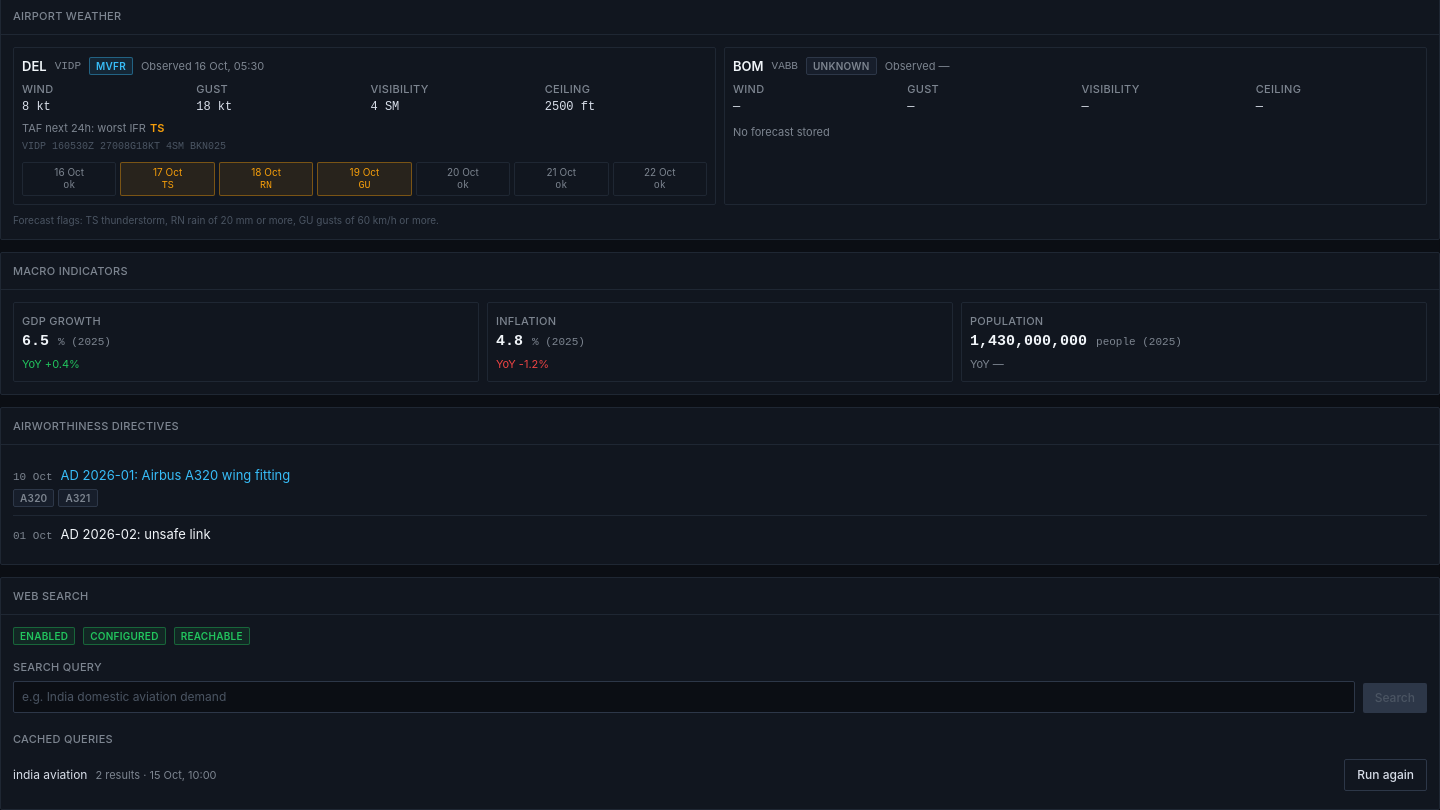
Test: DataPage › runs a search and lists the results, rendering unsafe links as plain text
(page scrolled)
Expected: the button "Search" is disabled, [1363,683,1427,713]
Type "  india aviation  " into the field labelled "Search query" at (684, 697), box [13,681,1355,713]
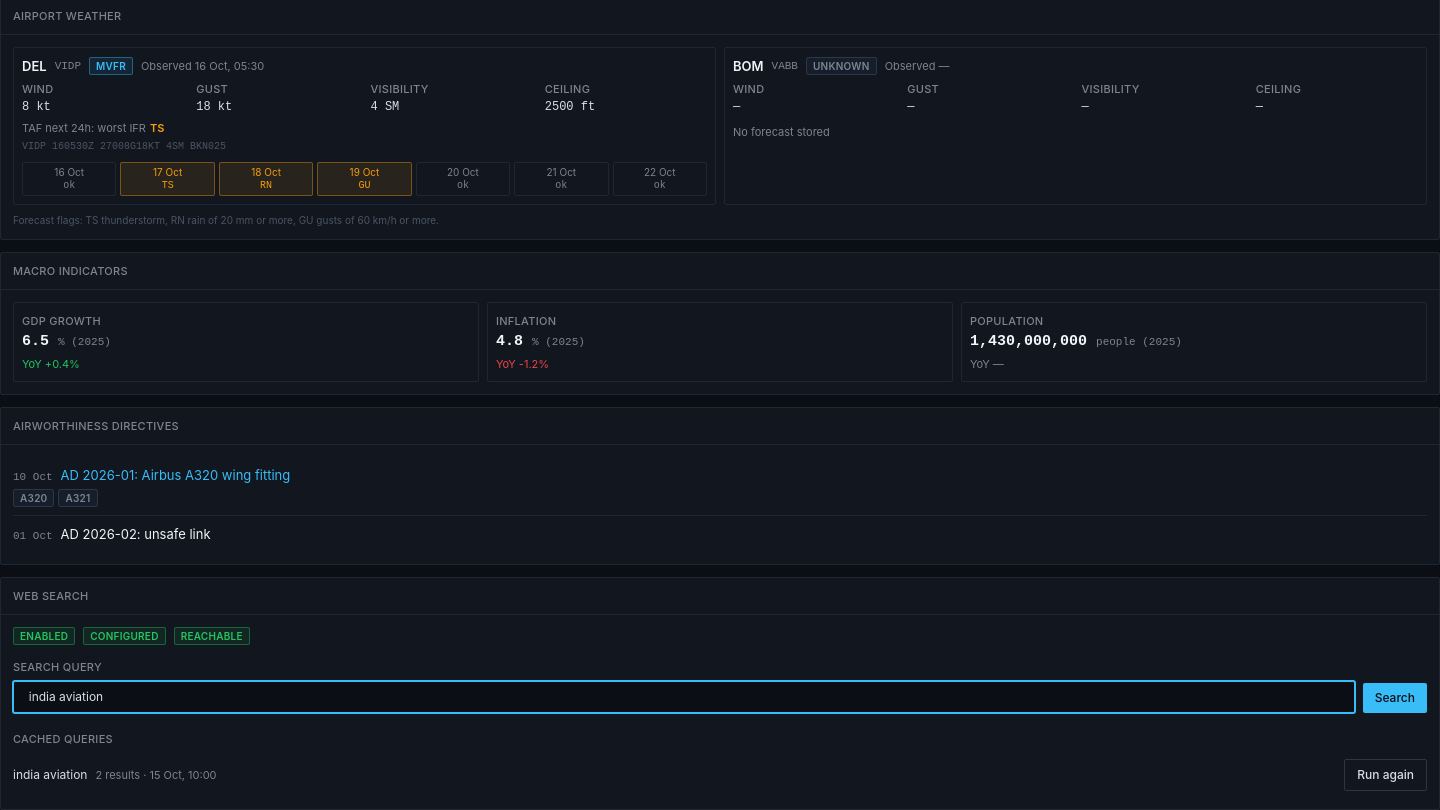
Click the button "Search" at (1395, 698), box [1363,683,1427,713]
(page scrolled)
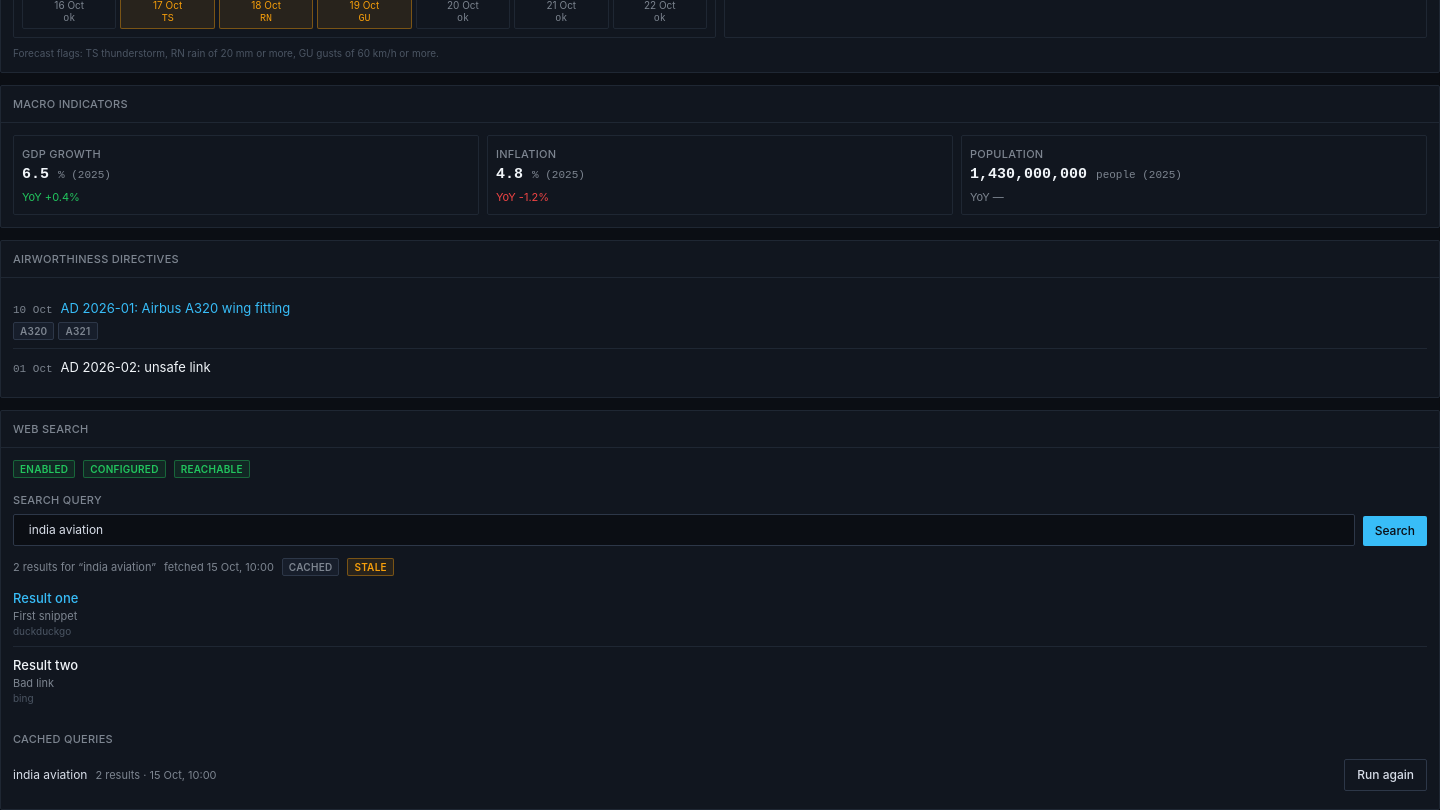
Result: the text "Result two" is shown at [13,657,78,673]
Result: the element with test id "web-search-results" shows "cached" at [289,561,332,573]
Result: the element with test id "web-search-results" shows "stale" at [354,561,387,573]
